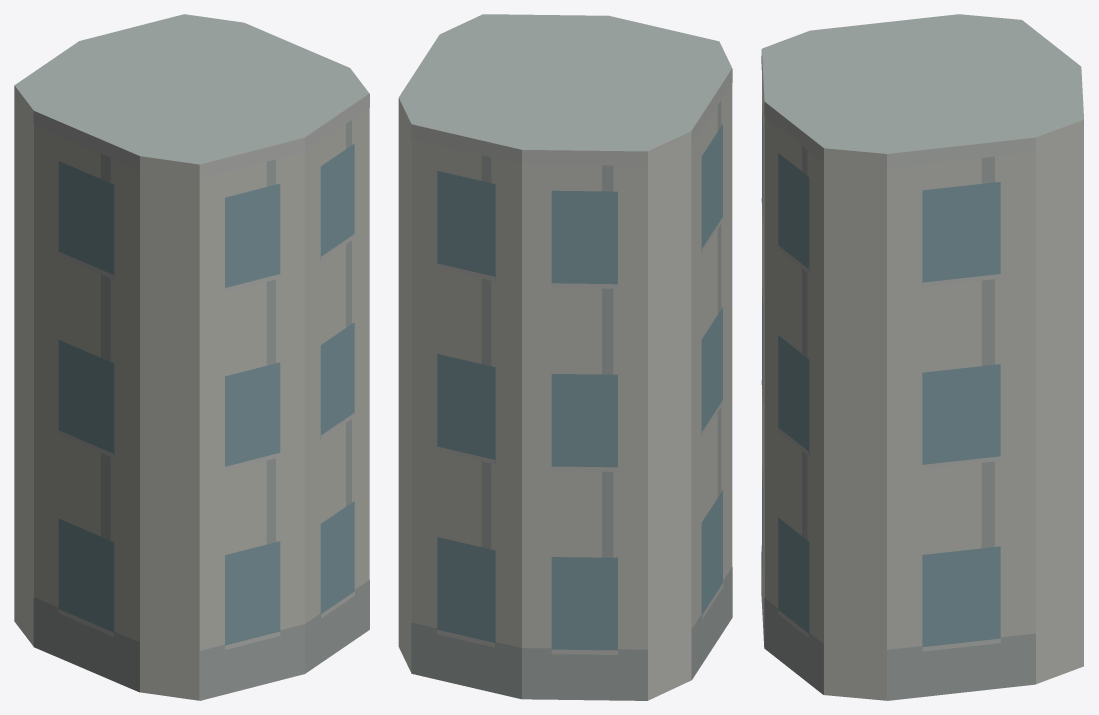
File: survey-upis-32521242.glb
3 renders of one model, left to right at view 1: azimuth 30°, elevation 25°; view 2: azimuth 150°, elevation 25°; view 3: azimuth 270°, elevation 25°, orthographic. The views are drawn at different scales.
Parts seen in each view (by area): view 1: survey-upis-32521242.tmp; view 2: survey-upis-32521242.tmp; view 3: survey-upis-32521242.tmp.
Boxes of the visible parts, x1=… form: survey-upis-32521242.tmp: x1=14, y1=14, x2=369, y2=700; survey-upis-32521242.tmp: x1=398, y1=14, x2=732, y2=700; survey-upis-32521242.tmp: x1=761, y1=14, x2=1083, y2=700.
Size of the model in its own units: 5.03 by 9.15 by 4.9.
